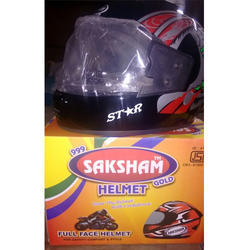with_helmet: (50, 2, 206, 132)
